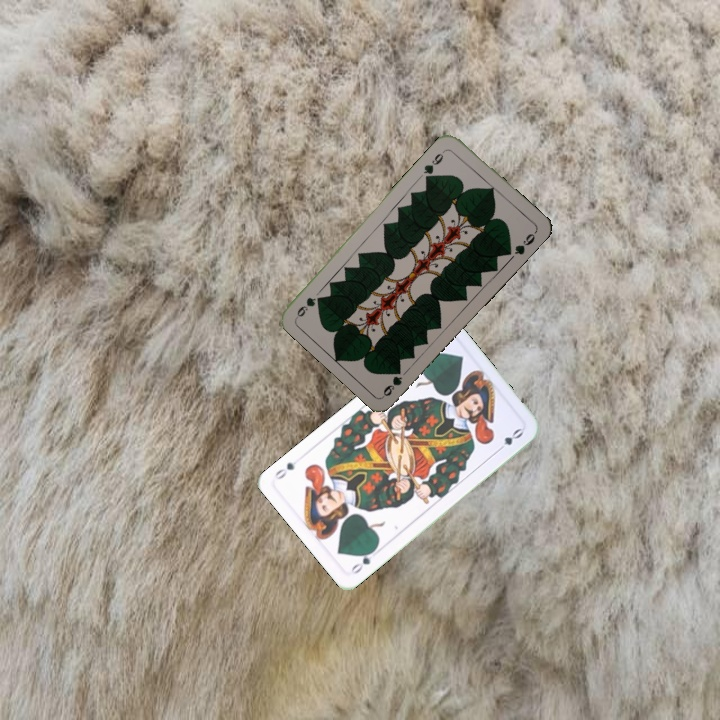G9: (419, 145, 449, 181), (379, 364, 405, 399)
GO: (347, 544, 379, 577)
